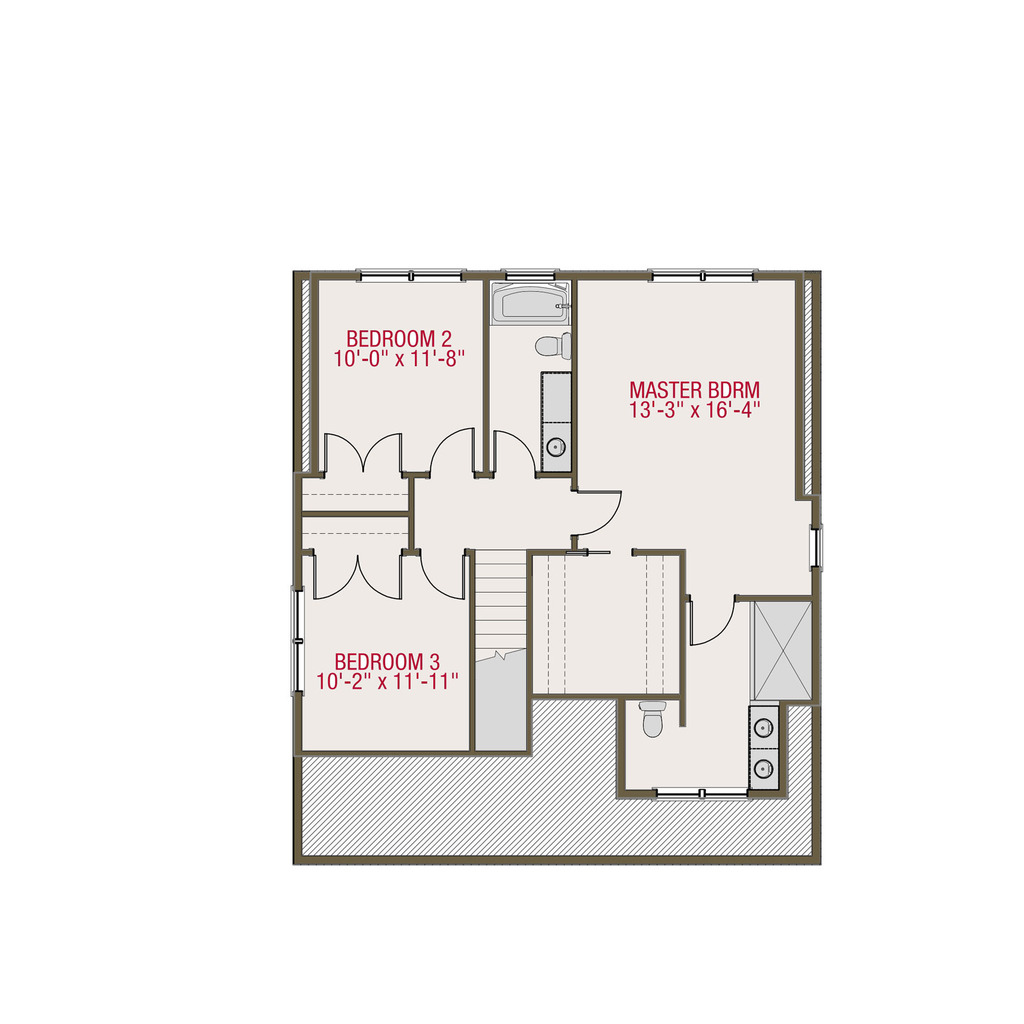door: (309, 542, 411, 603), (320, 427, 408, 480), (406, 542, 475, 608), (686, 592, 744, 646), (573, 482, 623, 541), (489, 421, 538, 477), (430, 428, 477, 480)
large_sink: (522, 324, 581, 363), (633, 702, 677, 749)
small_sink: (738, 703, 786, 791), (538, 421, 575, 472)
stairs: (477, 553, 541, 752)
tub: (488, 280, 575, 327)
window: (647, 261, 753, 288), (353, 261, 464, 286), (808, 521, 830, 571)
